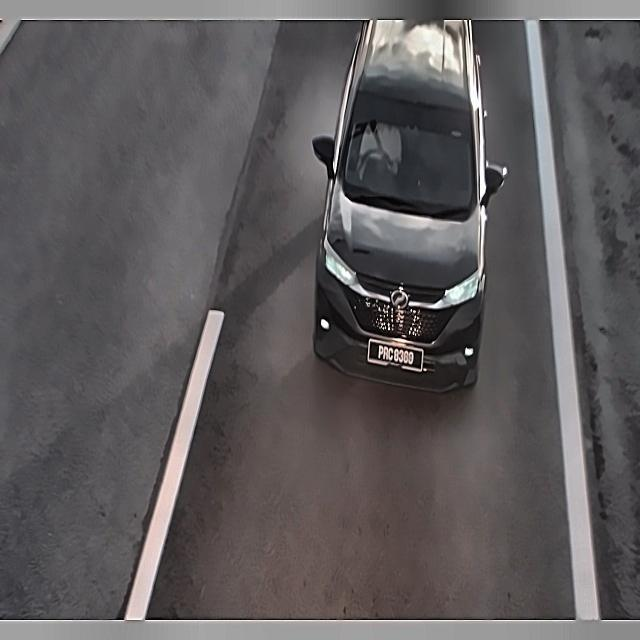car: (366, 333, 427, 378)
